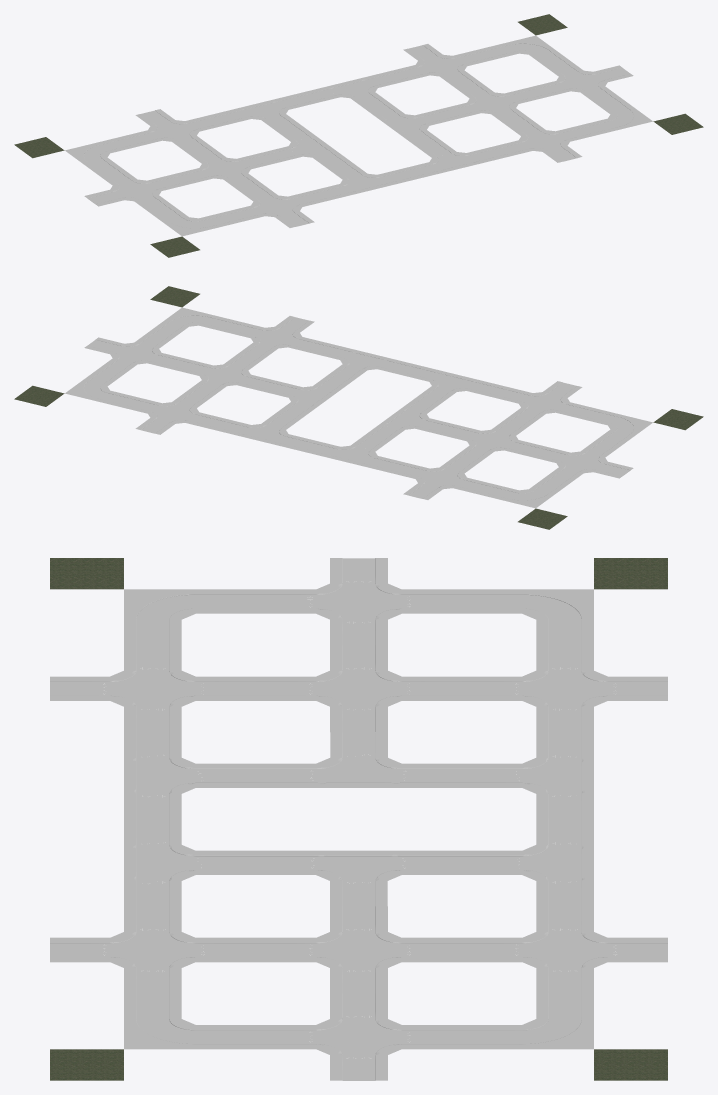
File: Double-Block-12.fbx
The picture shows the model from 3 angles, top to bottom: view 1: azimuth 30°, elevation 25°; view 2: azimuth 150°, elevation 25°; view 3: azimuth 270°, elevation 25°; orthographic projection. The views are drawn at different scales.
Visible parts, largest first — view 1: Double-Block-03-B, Double-Block-03, Double-Block-03-Sidewalk-B, Double-Block-03-Sidewalk; view 2: Double-Block-03-B, Double-Block-03, Double-Block-03-Sidewalk, Double-Block-03-Sidewalk-B; view 3: Double-Block-03, Double-Block-03-B, Double-Block-03-Sidewalk-B, Double-Block-03-Sidewalk.
Boxes of the visible parts, <box> form: Double-Block-03-B: <box>303,14,703,176</box>; Double-Block-03: <box>14,95,414,257</box>; Double-Block-03-Sidewalk-B: <box>301,35,652,178</box>; Double-Block-03-Sidewalk: <box>65,93,417,236</box>; Double-Block-03-B: <box>14,286,414,448</box>; Double-Block-03: <box>303,367,703,529</box>; Double-Block-03-Sidewalk: <box>300,365,652,508</box>; Double-Block-03-Sidewalk-B: <box>65,307,416,450</box>; Double-Block-03: <box>50,558,667,819</box>; Double-Block-03-B: <box>50,819,667,1080</box>; Double-Block-03-Sidewalk-B: <box>50,819,667,1080</box>; Double-Block-03-Sidewalk: <box>50,558,667,819</box>.
Size of what is drawn, in the model's own units: 600 by 0.1513 by 300.
